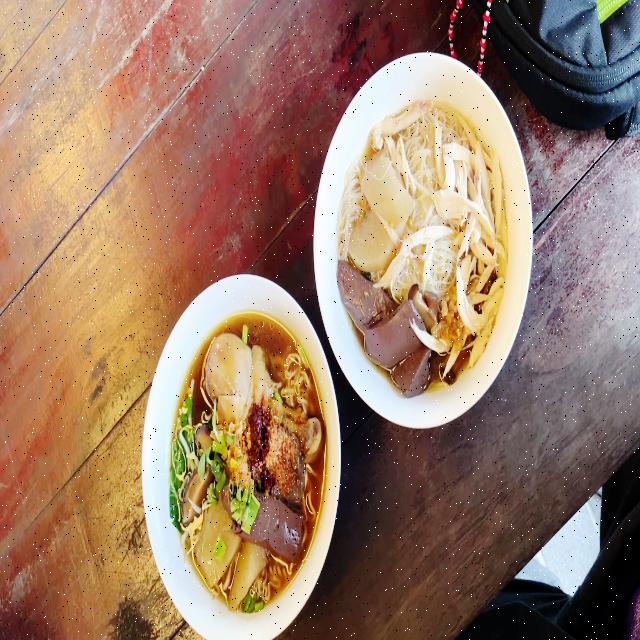boiled_chicken_blood_jelly: (341, 276, 435, 388), (254, 488, 298, 556)
chicken_drumstick: (204, 333, 321, 460)
chicken_shredded: (440, 136, 504, 336)
daikon_radish: (349, 147, 405, 267), (194, 497, 230, 580), (237, 540, 258, 605)
noodle: (353, 126, 500, 368), (185, 342, 307, 582)
